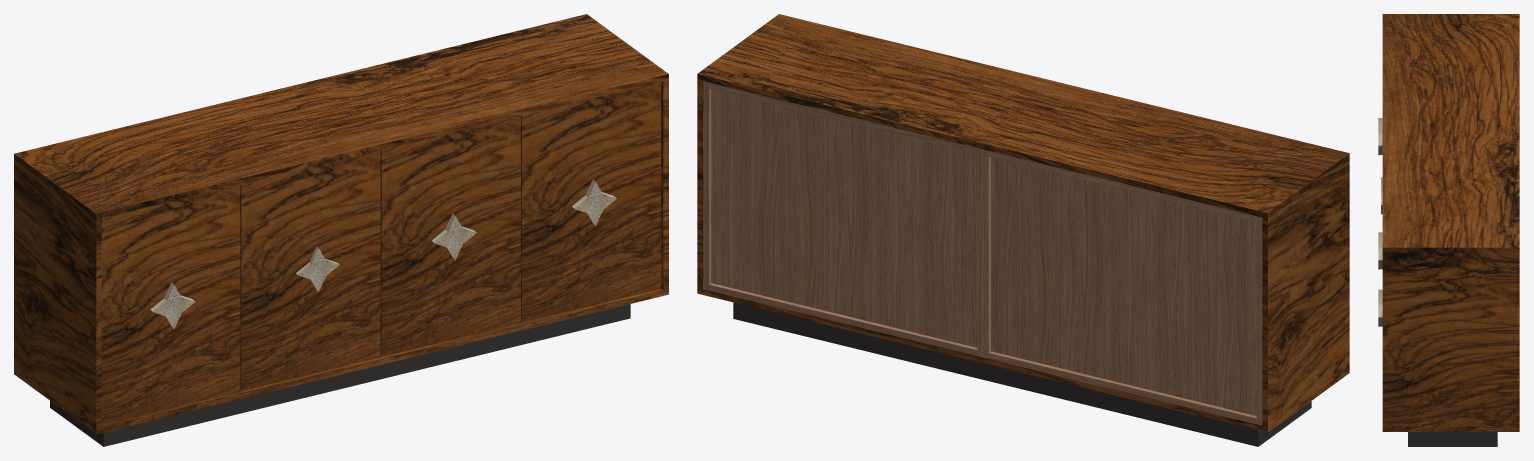
Rendered from madia-stella.glb.
The picture shows the model from 3 angles, left to right: view 1: azimuth 30°, elevation 25°; view 2: azimuth 150°, elevation 25°; view 3: azimuth 270°, elevation 25°; orthographic projection. The views are drawn at different scales.
Visible parts, largest first — view 1: 3DGeom-4, 3DGeom-7, 3DGeom-5, 3DGeom-6, 3DGeom-9, 3DGeom-3, 3DGeom-8, 3DGeom-11, 3DGeom-10, 3DGeom-13; view 2: 3DGeom-2, 3DGeom-4, 3DGeom-3; view 3: 3DGeom-4, 3DGeom-3, 3DGeom-11, 3DGeom-12, 3DGeom-8.
Boxes of the visible parts, left/top/right/bottom form: 3DGeom-4: left=14, top=14, right=668, bottom=434; 3DGeom-7: left=240, top=150, right=380, bottom=391; 3DGeom-5: left=521, top=82, right=661, bottom=322; 3DGeom-6: left=380, top=116, right=520, bottom=356; 3DGeom-9: left=101, top=184, right=240, bottom=425; 3DGeom-3: left=50, top=304, right=630, bottom=446; 3DGeom-8: left=150, top=282, right=194, bottom=328; 3DGeom-11: left=432, top=213, right=476, bottom=259; 3DGeom-10: left=296, top=246, right=339, bottom=291; 3DGeom-13: left=575, top=182, right=616, bottom=225; 3DGeom-2: left=703, top=81, right=1262, bottom=425; 3DGeom-4: left=697, top=14, right=1349, bottom=432; 3DGeom-3: left=733, top=302, right=1311, bottom=446; 3DGeom-4: left=1382, top=14, right=1519, bottom=431; 3DGeom-3: left=1408, top=432, right=1497, bottom=446; 3DGeom-11: left=1378, top=232, right=1382, bottom=269; 3DGeom-12: left=1378, top=289, right=1382, bottom=326; 3DGeom-8: left=1378, top=118, right=1382, bottom=155.
Bounding box in the file's own units: 1.84 × 0.766 × 0.4702.
5 materials, 3 textured.
